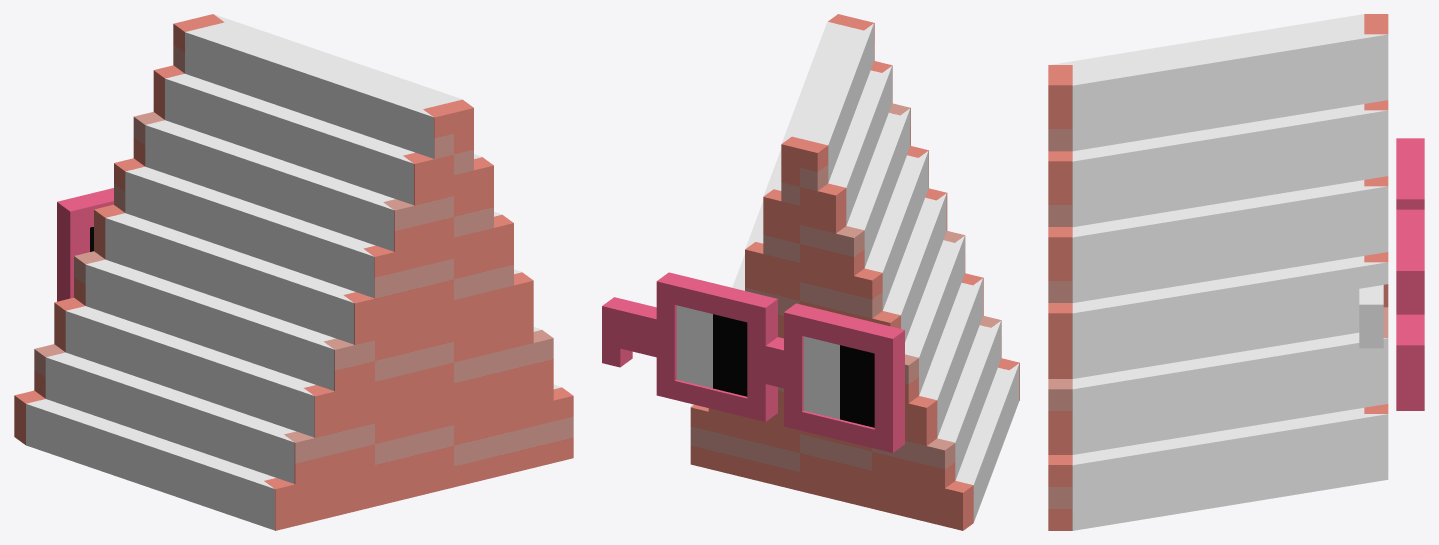
The model's file is trout.gltf.
The picture shows the model from 3 angles, left to right: view 1: azimuth 30°, elevation 25°; view 2: azimuth 150°, elevation 25°; view 3: azimuth 270°, elevation 25°; orthographic projection. The views are drawn at different scales.
Parts seen in each view (by area): view 1: back-Local, side-left-9-Local, side-left-2-Local, side-left-6-Local, side-left-3-Local, side-left-4-Local, side-left-5-Local, side-left-7-Local, side-left-1-Local, side-left-8-Local, back-top-Local, l1-Local (+4 smaller); view 2: l1-Local, layer-1-Local, layer-2-Local, l1-top-Local, l1-bottom-Local, side-right-6-Local, side-left-1-Local, side-left-7-Local, side-left-6-Local, side-left-2-Local, side-left-8-Local, side-left-3-Local (+4 smaller); view 3: side-right-6-Local, side-right-5-Local, side-right-4-Local, side-right-1-Local, side-right-2-Local, side-right-3-Local, back-Local, layer-1-Local, side-left-9-Local, layer-2-Local, back-top-Local, eyes-Local (+1 smaller).
Boxes of the visible parts, x1,y1,x2,y2 form: back-Local: [275, 108, 573, 530]; side-left-9-Local: [185, 19, 456, 158]; side-left-2-Local: [45, 352, 295, 483]; side-left-6-Local: [125, 166, 375, 297]; side-left-3-Local: [65, 306, 315, 437]; side-left-4-Local: [85, 259, 335, 390]; side-left-5-Local: [105, 213, 354, 344]; side-left-7-Local: [145, 120, 395, 251]; side-left-1-Local: [26, 399, 275, 530]; side-left-8-Local: [165, 74, 414, 205]; back-top-Local: [264, 99, 573, 509]; l1-Local: [14, 24, 184, 444]; l1-Local: [690, 145, 973, 530]; layer-1-Local: [602, 273, 903, 452]; layer-2-Local: [604, 272, 904, 451]; l1-top-Local: [690, 136, 973, 510]; l1-bottom-Local: [690, 450, 973, 530]; side-right-6-Local: [781, 21, 866, 144]; side-left-1-Local: [955, 363, 1019, 522]; side-left-7-Local: [846, 108, 910, 267]; side-left-6-Local: [865, 151, 928, 310]; side-left-2-Local: [937, 321, 1001, 480]; side-left-8-Local: [828, 66, 892, 225]; side-left-3-Local: [919, 278, 982, 437]; side-right-6-Local: [1071, 18, 1388, 151]; side-right-5-Local: [1072, 104, 1388, 227]; side-right-4-Local: [1072, 180, 1388, 303]; side-right-1-Local: [1072, 408, 1388, 530]; side-right-2-Local: [1072, 332, 1388, 454]; side-right-3-Local: [1072, 256, 1388, 378]; back-Local: [1048, 85, 1072, 530]; layer-1-Local: [1400, 138, 1424, 410]; side-left-9-Local: [1051, 14, 1372, 82]; layer-2-Local: [1396, 138, 1420, 410]; back-top-Local: [1048, 65, 1072, 486]; eyes-Local: [1359, 285, 1383, 348].
Size of the model in its own units: 20.02 by 18 by 15.57.
Materials: 25 (25 with a texture image).
